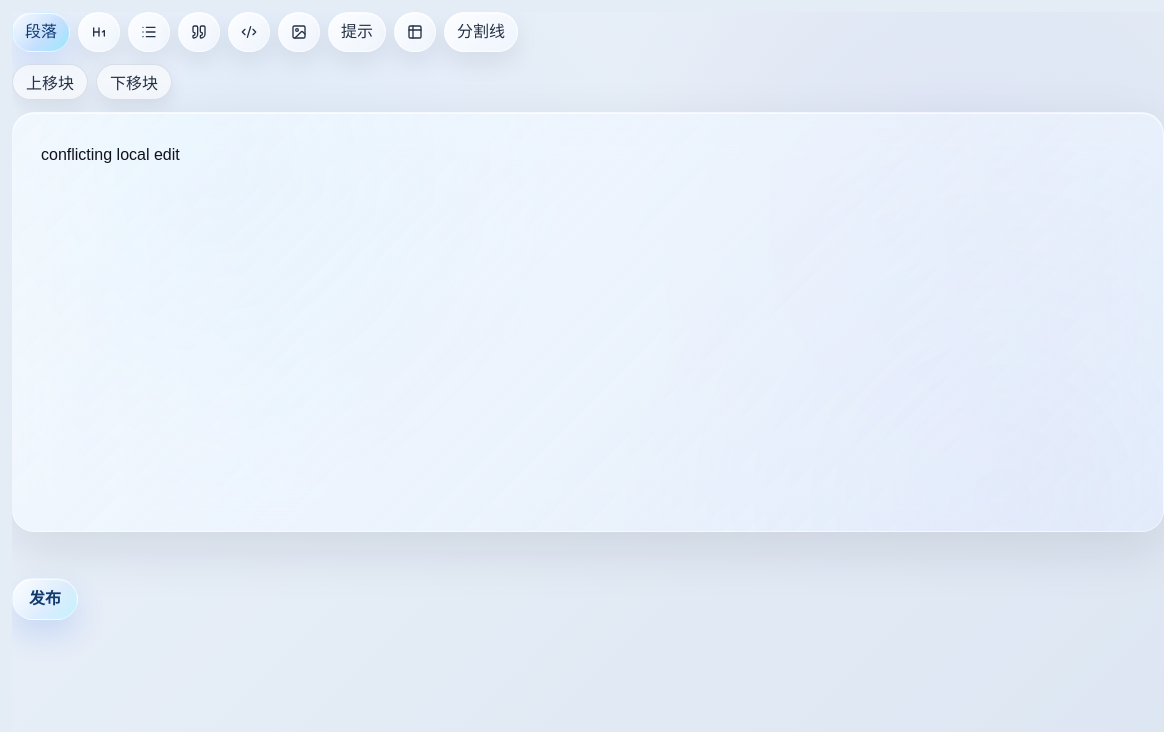
Scenario: ArticleEditor › keeps local content and offers conflict actions when the revision is stale
This screenshot has width=1164, height=732.
Clear the field named "文章内容": (588, 322) [12,112,1163,532]
Wait 1500 ms
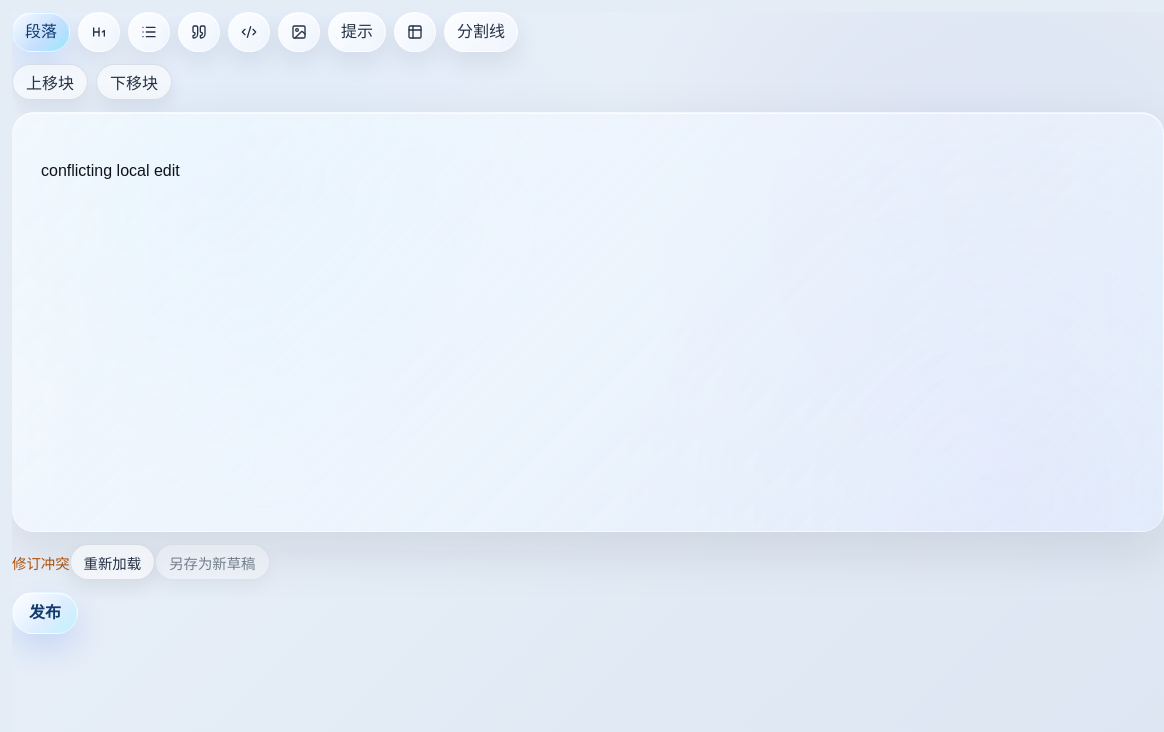
expect the text "修订冲突" is shown: met, box [12,556,70,572]
expect the button "重新加载" is shown: met, box [70,544,155,580]
expect the button "另存为新草稿" is shown: met, box [155,544,270,580]
